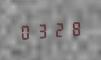eight: (66, 18, 81, 37)
three: (34, 21, 49, 40)
two: (50, 20, 65, 38)
zero: (18, 22, 33, 41)
